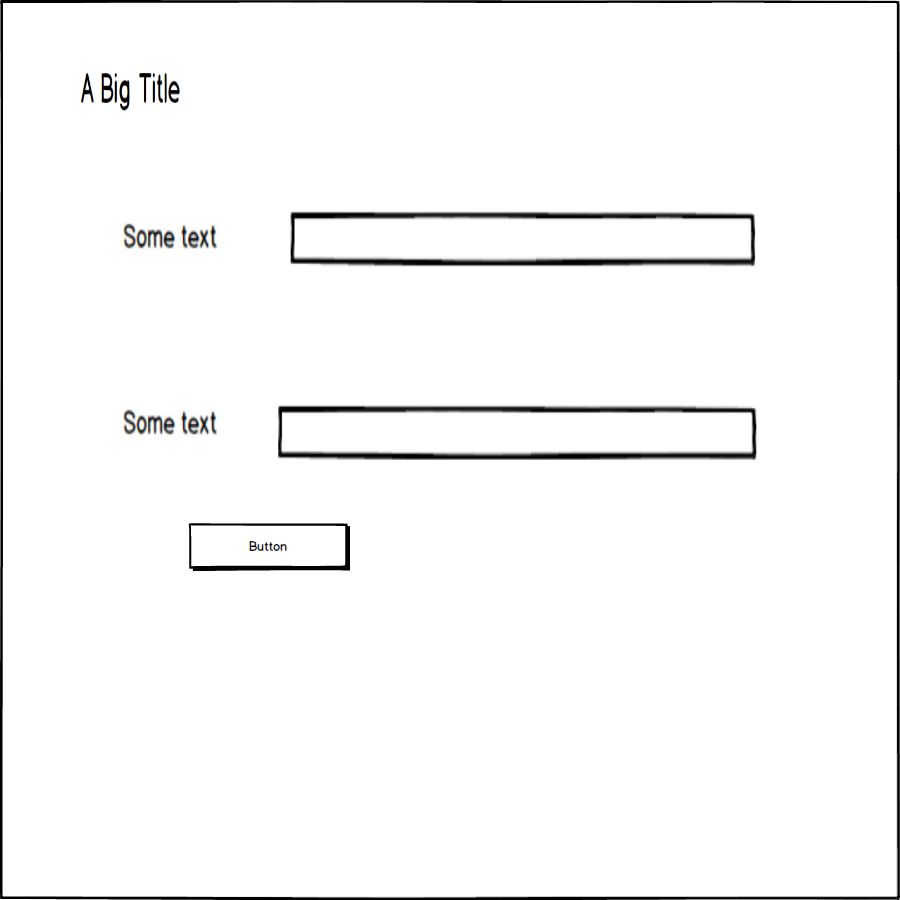button: (182, 519, 359, 580)
h1: (70, 66, 187, 121), (112, 401, 234, 445), (113, 212, 226, 259)
input: (285, 204, 759, 273), (270, 400, 764, 466)
